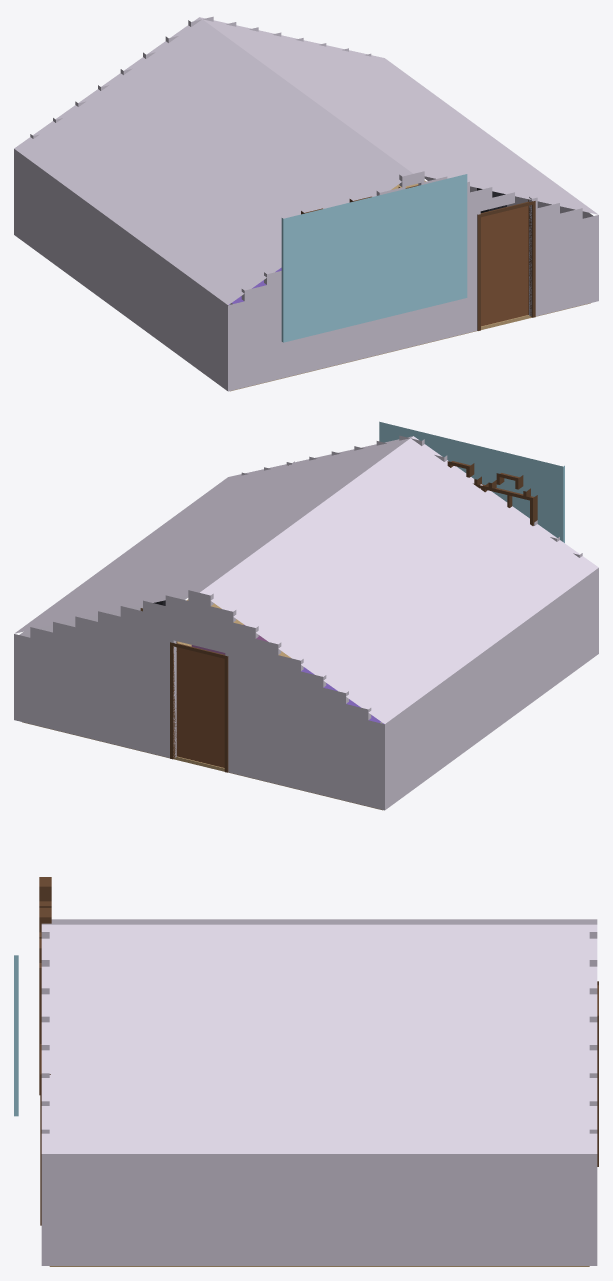
Rendered from room_game_a.glb.
3 views of the same model, one above another, from view 1: azimuth 30°, elevation 25°; view 2: azimuth 150°, elevation 25°; view 3: azimuth 270°, elevation 25° (orthographic). The views are drawn at different scales.
Parts seen in each view (by area): view 1: CEILING, WALLS, VIEW_window_N, DOOR_game_b, FRAMES, FLOOR_visible; view 2: CEILING, WALLS, VIEW_window_N, DOOR_stairs, FRAMES, FLOOR_visible; view 3: CEILING, WALLS, FRAMES, VIEW_window_N.
Boxes of the visible parts, x1,y1,x2,y2 form: CEILING: (14, 17, 598, 304); WALLS: (14, 16, 598, 391); VIEW_window_N: (281, 174, 467, 342); DOOR_game_b: (481, 205, 528, 326); FRAMES: (301, 185, 535, 330); FLOOR_visible: (230, 303, 590, 391); CEILING: (14, 436, 598, 723); WALLS: (14, 435, 598, 810); VIEW_window_N: (379, 421, 564, 542); DOOR_stairs: (177, 647, 224, 767); FRAMES: (170, 461, 537, 772); FLOOR_visible: (22, 722, 382, 810); CEILING: (41, 919, 597, 1153); WALLS: (41, 932, 597, 1265); FRAMES: (39, 877, 598, 1225); VIEW_window_N: (14, 955, 18, 1116).
Size of the model in its own units: 7.2 by 3.26 by 7.58.
